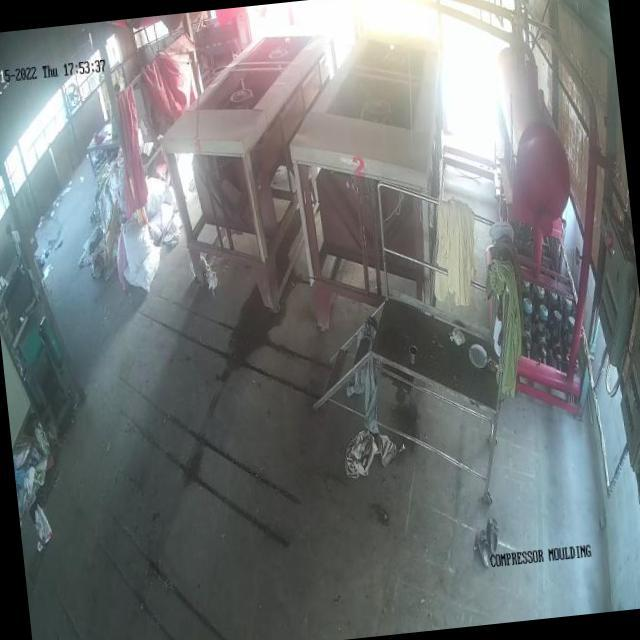person: (4, 222, 24, 267), (107, 80, 125, 122)
